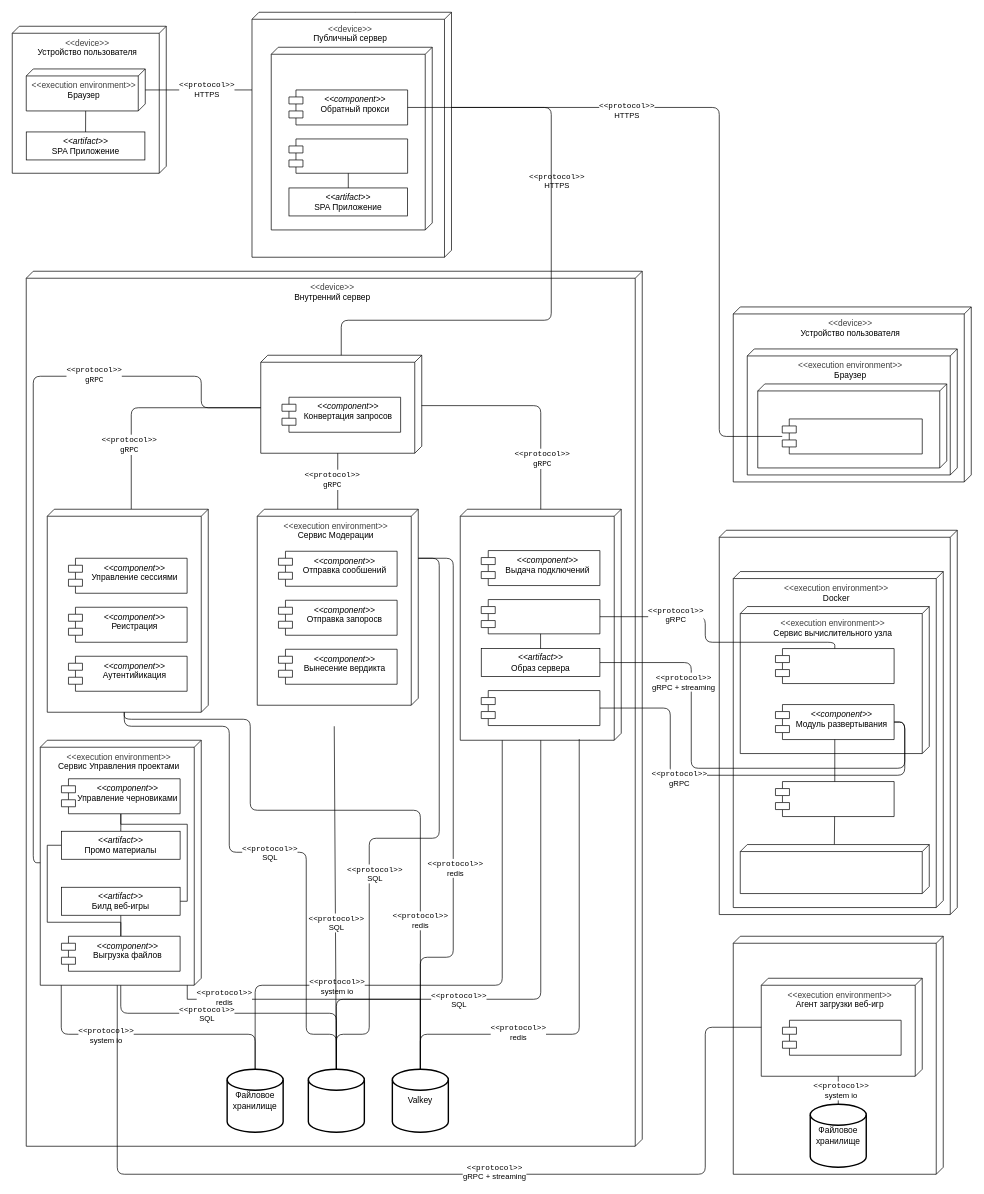
This 984x1194 diagram has some shape labels left out. The shapes that lost their labels are listed below. From the top down, each one's box as (x1, y1, x2, y2) in pixels, then its label:
(288, 138, 408, 173): <<component>> Статический веб-сервер
(271, 47, 432, 230): <<execution environment>> Nginx
(260, 355, 422, 453): <<execution environment>> API Шлюз
(757, 383, 947, 468): <<execution environment>> Веб игра
(782, 418, 922, 454): <<component>> Плагин обнаружения сервера
(47, 509, 208, 712): <<execution environment>> Сервис Аутентификации
(481, 599, 600, 634): <<component>> Обработка сборок
(460, 509, 621, 740): <<execution environment>> Сервис Оркестрации
(775, 648, 894, 684): <<component>> Модуль обнаружения
(481, 690, 600, 726): <<component>> Управление инстансами
(719, 530, 957, 915): <<device>> Выделенный игровой сервер
(775, 781, 894, 817): <<component>> Docker API
(740, 844, 929, 894): <<execution environment>> Игровой сервер
(733, 936, 943, 1174): <<device>> Сервер платформы Welwise
(782, 1020, 901, 1055): <<component>> Загрузка файлов
(307, 1068, 365, 1133): PostgreSQL
